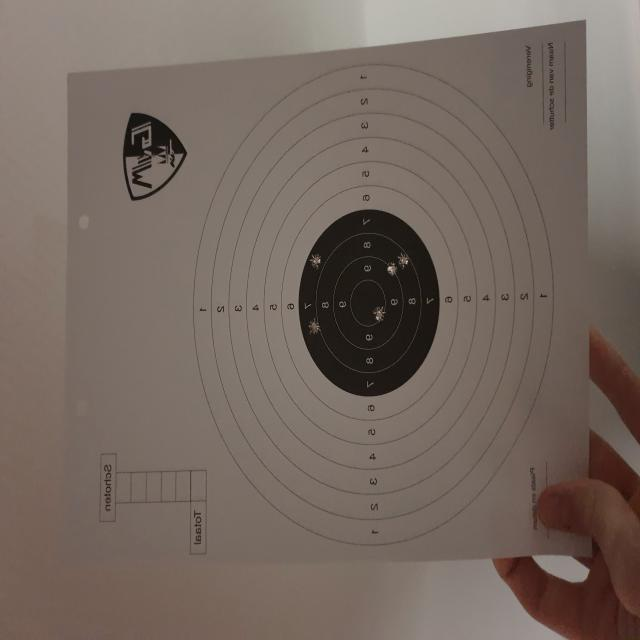10: (372, 306, 386, 323)
7: (310, 253, 322, 270)
8: (397, 252, 410, 270), (308, 318, 321, 334)
9: (387, 261, 398, 276)
Target: (192, 57, 555, 548)
black_contour: (298, 208, 439, 398)
